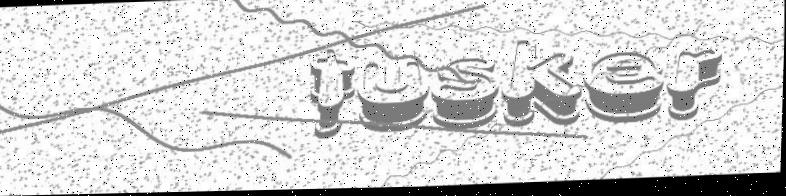e: (580, 52, 665, 128)
k: (500, 39, 585, 130)
r: (664, 51, 723, 123)
s: (429, 58, 501, 134)
t: (307, 47, 359, 142)
u: (356, 61, 431, 134)
